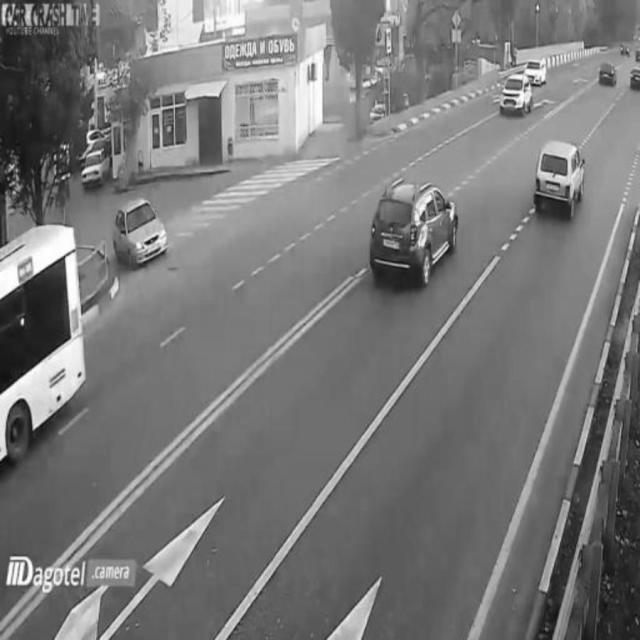vehicle: (0, 221, 90, 467), (367, 173, 458, 286), (535, 130, 586, 218), (108, 195, 170, 265), (498, 67, 532, 119), (81, 144, 109, 190), (525, 54, 550, 91), (596, 52, 616, 88), (628, 58, 640, 98)
